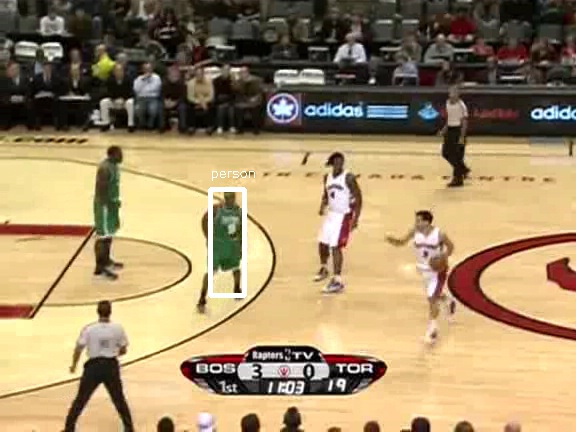person: (211, 201, 245, 282), (210, 201, 244, 282), (212, 201, 246, 282), (211, 200, 245, 281), (211, 202, 245, 283)
target_negative: (7, 207, 450, 421), (188, 30, 523, 258), (73, 219, 502, 338), (325, 161, 376, 338), (537, 9, 550, 162), (467, 299, 475, 380)
